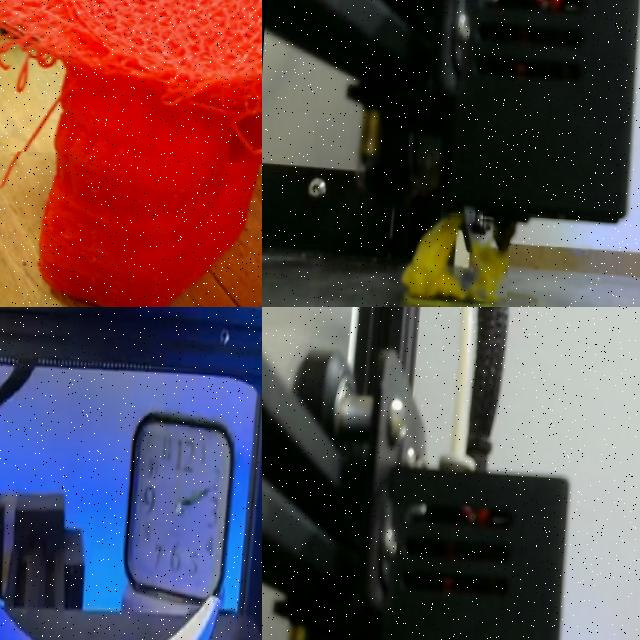spaghetti: (0, 0, 262, 174), (402, 216, 509, 302)
